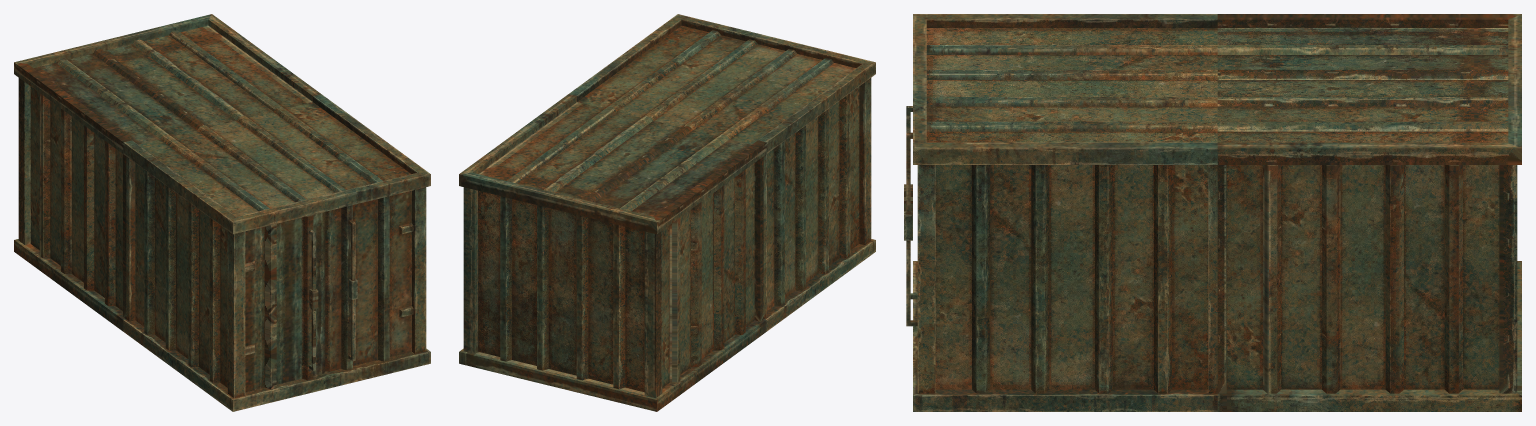
The picture shows the model from 3 angles, left to right: view 1: azimuth 30°, elevation 25°; view 2: azimuth 150°, elevation 25°; view 3: azimuth 270°, elevation 25°; orthographic projection. The views are drawn at different scales.
Visible parts, largest first — view 1: container05_container05Shape; view 2: container05_container05Shape; view 3: container05_container05Shape.
Boxes of the visible parts, x1,y1,x2,y2 form: container05_container05Shape: (14, 14, 430, 411); container05_container05Shape: (459, 14, 875, 411); container05_container05Shape: (904, 14, 1521, 411).
Bounding box in the file's own units: 3.61 × 3.3 × 7.01.
Materials: 1 (1 with a texture image).
